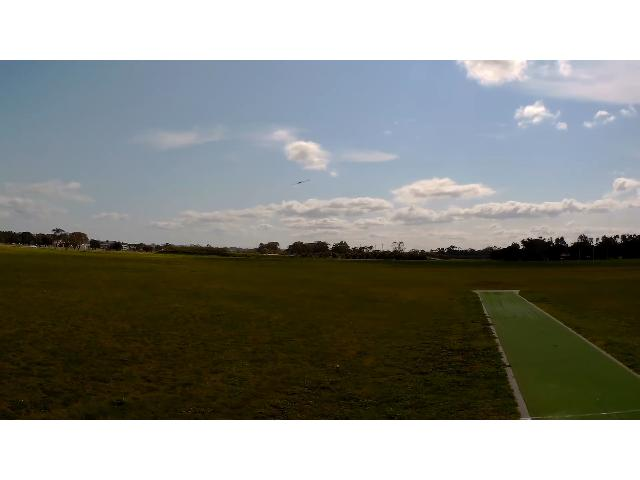Anti-Drone: (290, 180, 310, 186)
